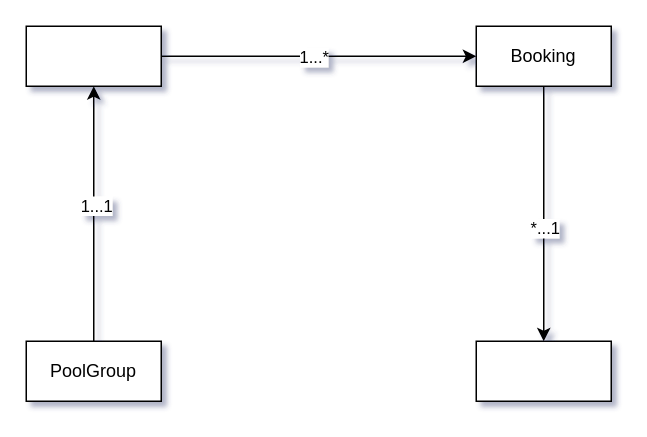
The diagram is 647 pixels wide and 437 high, and some of its shapes have lost their labels. The shapes that lost their labels are listed below. From the top down, each one's box as (x1, y1, x2, y2) in pixels, then its label:
(25, 25, 161, 86): Ride
(475, 340, 611, 401): User
